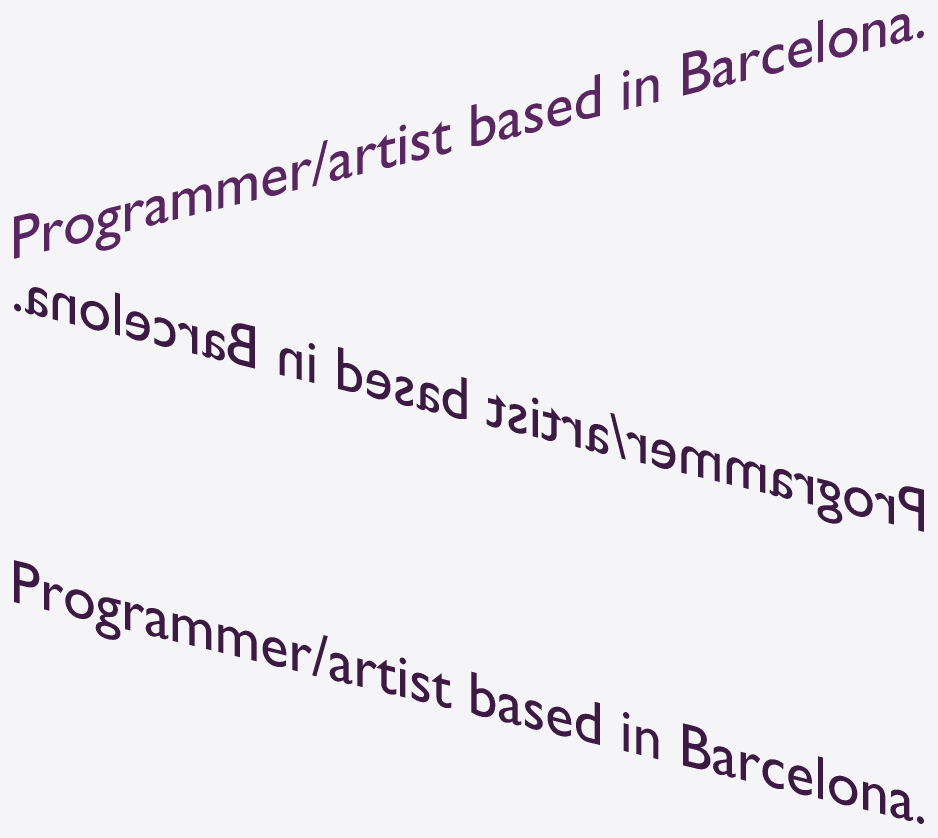
The model's file is ABOUT.glb.
3 renders of one model, top to bottom at view 1: azimuth 30°, elevation 25°; view 2: azimuth 150°, elevation 25°; view 3: azimuth 330°, elevation 25°, orthographic.
Visible parts, largest first — view 1: Text; view 2: Text; view 3: Text.
Boxes of the visible parts, box(x1,y1,x2,y2) form: Text: box(14, 14, 923, 258); Text: box(14, 287, 923, 531); Text: box(14, 560, 923, 823).
Bounding box in the file's own units: 10.03 × 0.5977 × 5.04e-08.
